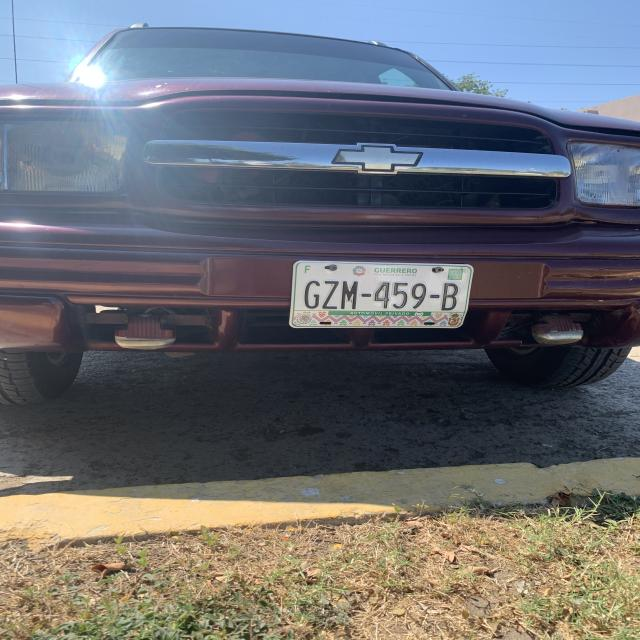placa: (295, 275, 470, 315)
